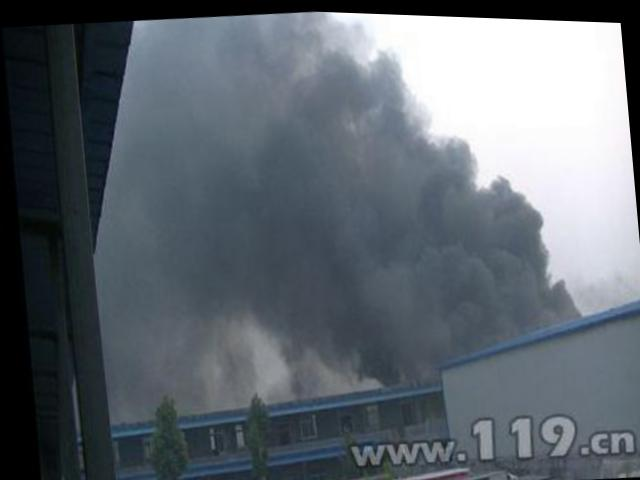smoke: (111, 30, 372, 393), (234, 110, 490, 357), (476, 173, 556, 317)
